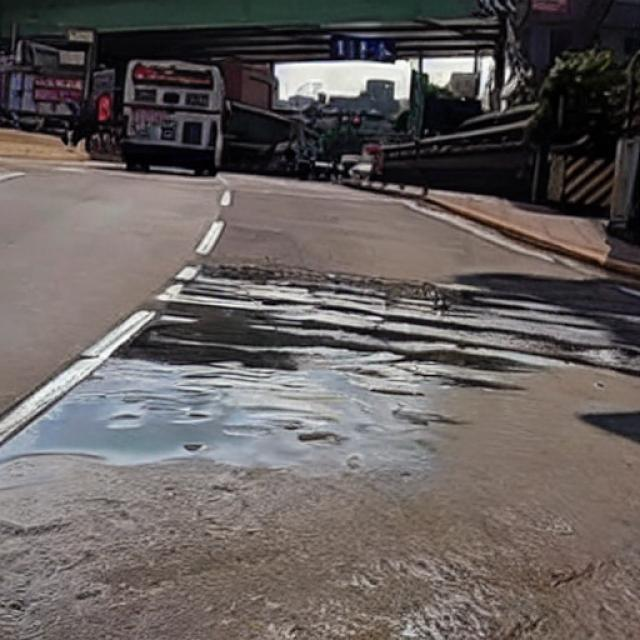puddle: (3, 260, 640, 477)
